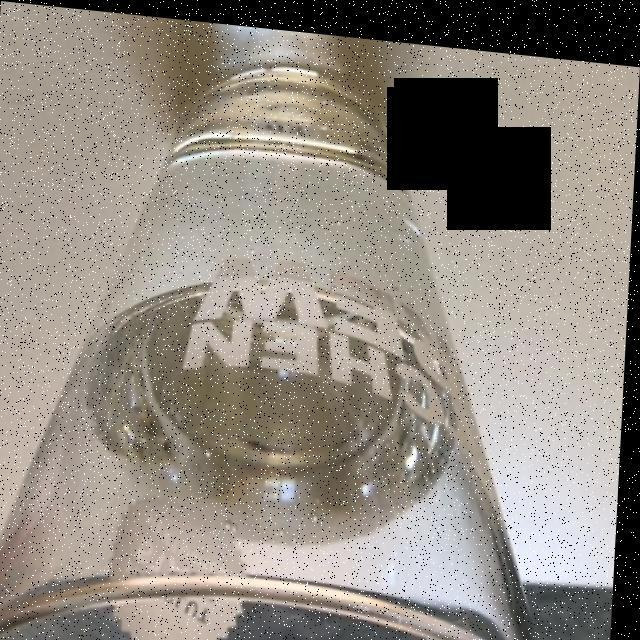water: (88, 82, 452, 535)
